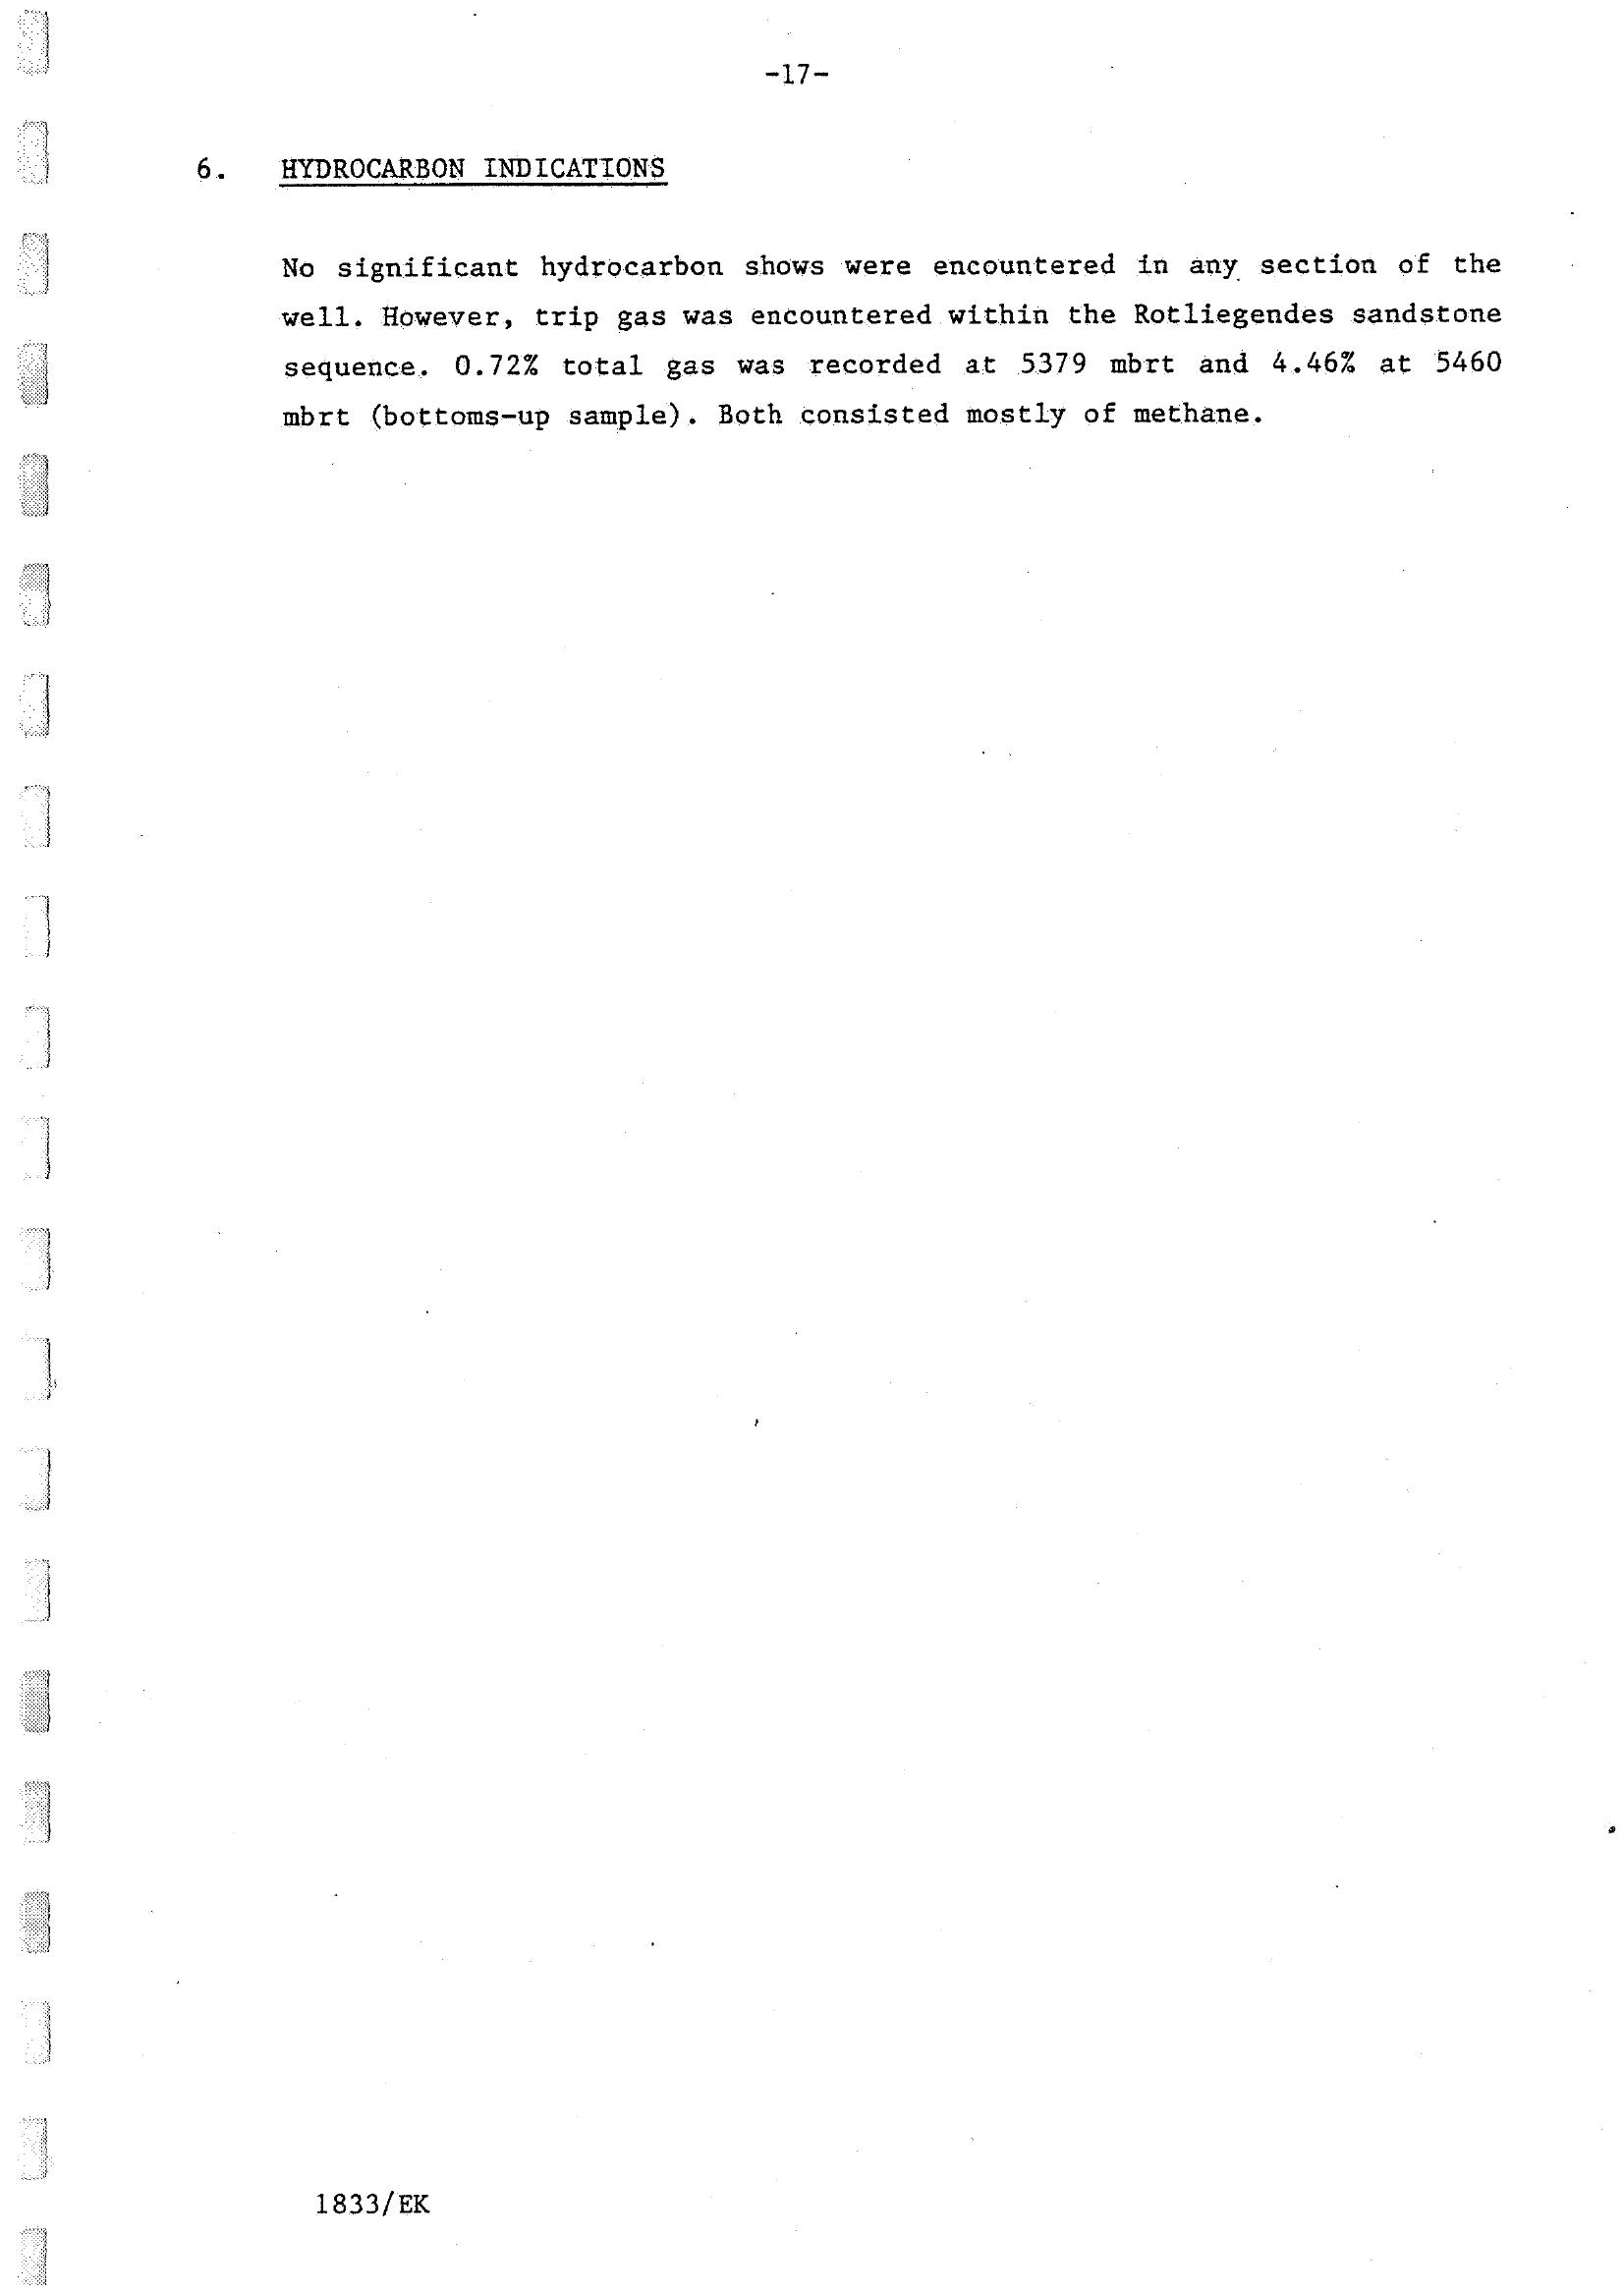text: (165, 137, 1536, 501)
